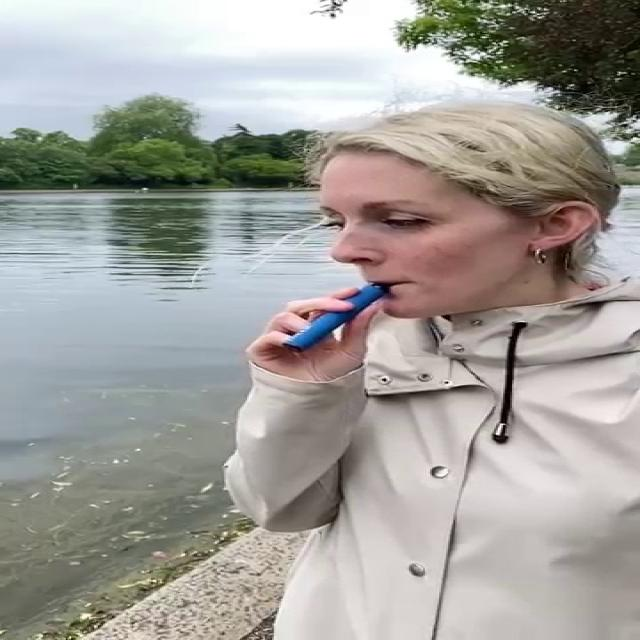Cigarette: (282, 283, 390, 352)
Hand: (247, 286, 384, 384)
Mouth: (367, 278, 417, 288)
